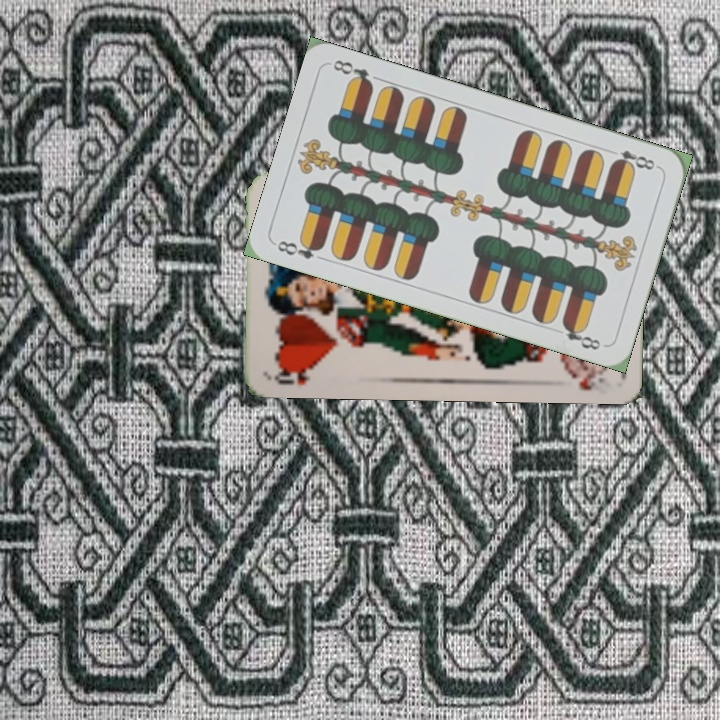E8: (605, 145, 662, 173), (273, 235, 326, 262)
HO: (270, 362, 316, 388)
